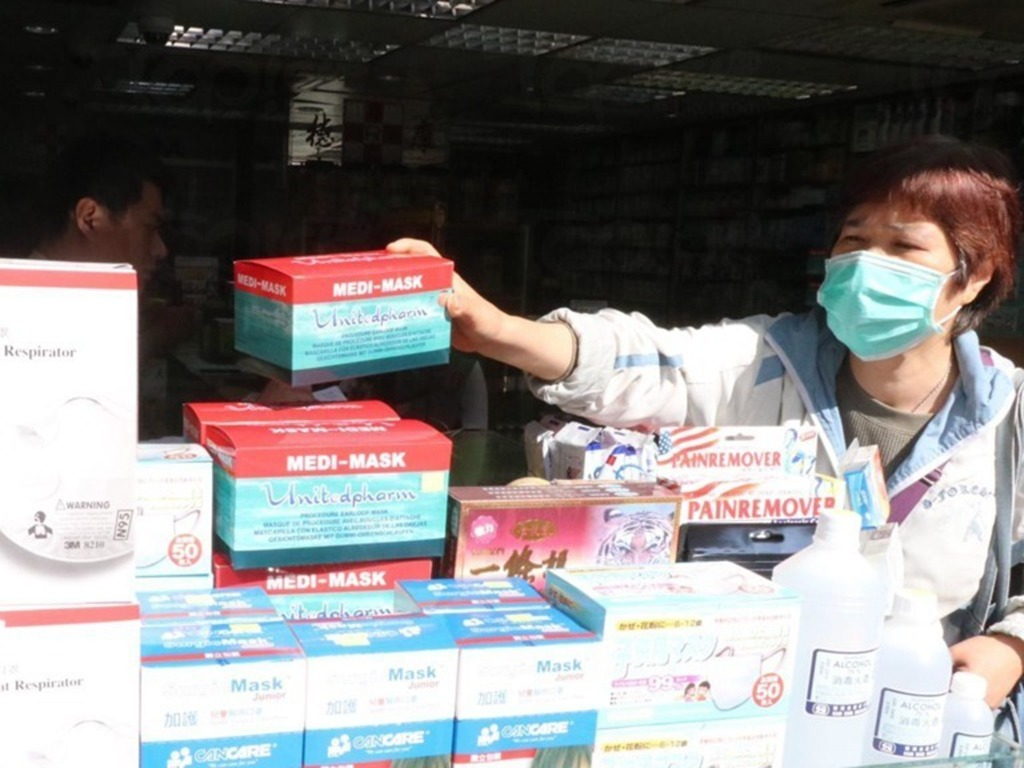Mask: (812, 192, 978, 367)
